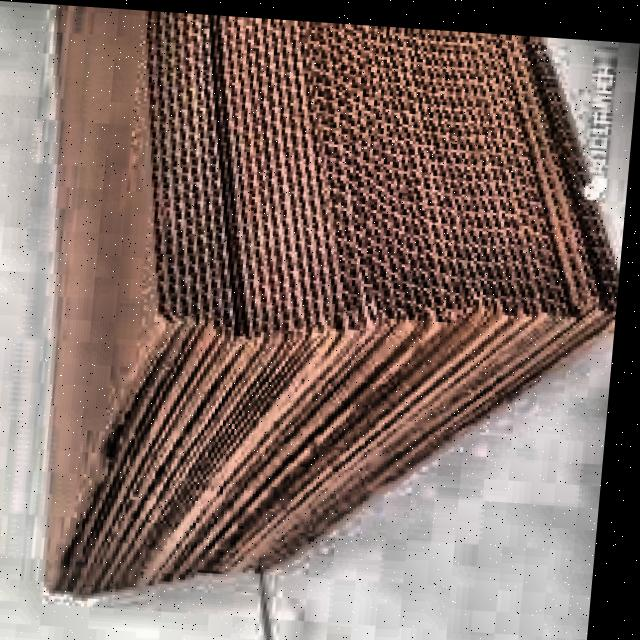cardboard: (3, 4, 640, 633)
